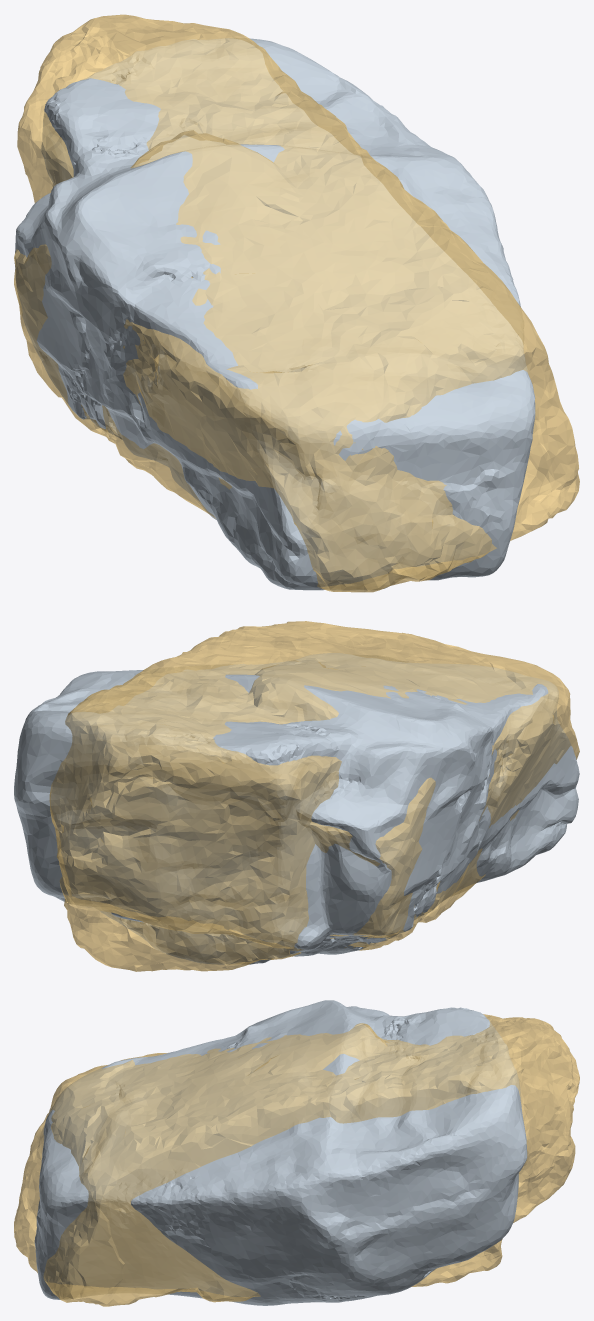
3 renders of one model, top to bottom at view 1: azimuth 30°, elevation 25°; view 2: azimuth 150°, elevation 25°; view 3: azimuth 270°, elevation 25°, orthographic. The views are drawn at different scales.
Parts seen in each view (by area): view 1: imagination, truth; view 2: imagination, truth; view 3: imagination, truth.
Boxes of the visible parts, x1=… form: imagination: x1=14, y1=38, x2=535, y2=590; truth: x1=14, y1=14, x2=579, y2=592; imagination: x1=14, y1=653, x2=579, y2=964; truth: x1=49, y1=621, x2=579, y2=971; imagination: x1=34, y1=1000, x2=527, y2=1305; truth: x1=14, y1=1014, x2=579, y2=1306.
Size of the model in its own units: 0.8073 by 0.606 by 1.25.
